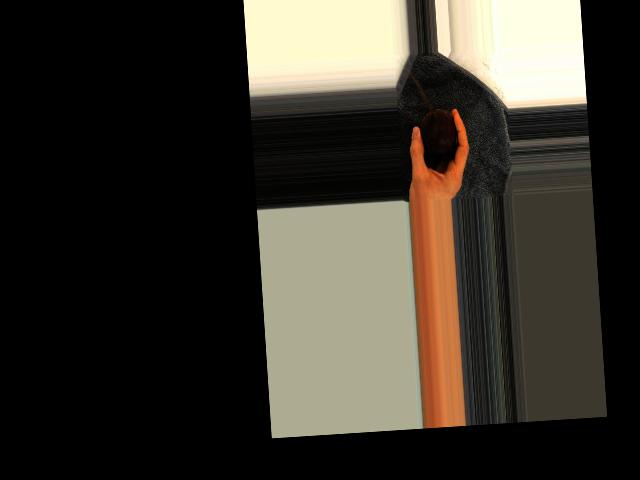beet: (419, 108, 457, 156)
